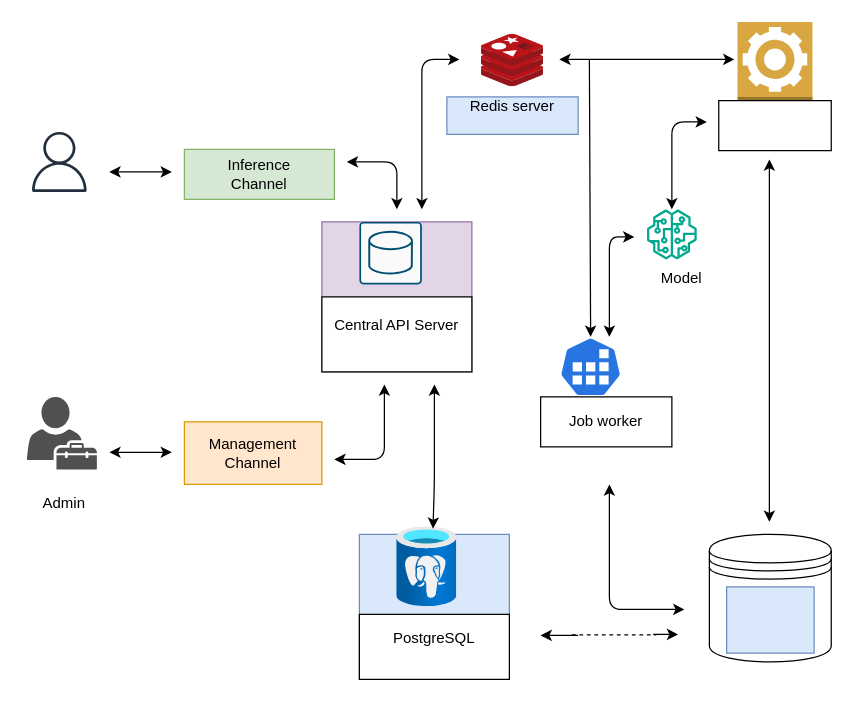
Some shapes in this 854 by 701 pixel diagram are drawn without their labels. Each missing label, with the centre of its shape:
Annotated Database: the point at 769,619
Training worker: the point at 774,125
User: the point at 59,161
